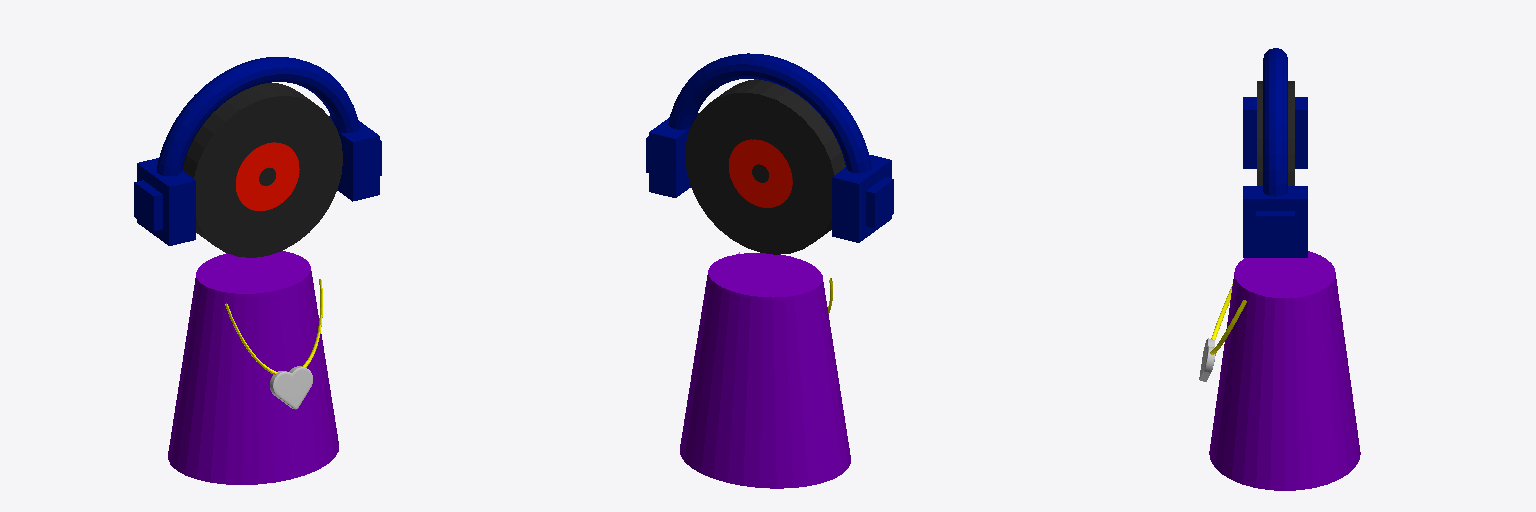
3 renders of one model, left to right at view 1: azimuth 30°, elevation 25°; view 2: azimuth 150°, elevation 25°; view 3: azimuth 270°, elevation 25°, orthographic.
Parts seen in each view (by area): view 1: newPlayer.001, newPlayer.003, newPlayer.002, newPlayer, newPlayer.004; view 2: newPlayer.001, newPlayer.003, newPlayer.002; view 3: newPlayer.001, newPlayer.002, newPlayer.003.
Boxes of the visible parts, x1=… form: newPlayer.001: x1=168, y1=251, x2=338, y2=484; newPlayer.003: x1=183, y1=82, x2=342, y2=257; newPlayer.002: x1=134, y1=57, x2=381, y2=245; newPlayer: x1=270, y1=366, x2=312, y2=409; newPlayer.004: x1=225, y1=279, x2=322, y2=374; newPlayer.001: x1=680, y1=253, x2=850, y2=488; newPlayer.003: x1=685, y1=79, x2=845, y2=254; newPlayer.002: x1=646, y1=53, x2=893, y2=242; newPlayer.001: x1=1209, y1=251, x2=1360, y2=490; newPlayer.002: x1=1243, y1=48, x2=1307, y2=257; newPlayer.003: x1=1257, y1=81, x2=1294, y2=185.
Size of the model in its own units: 1.44 by 2.38 by 0.881.
5 materials, 4 textured.